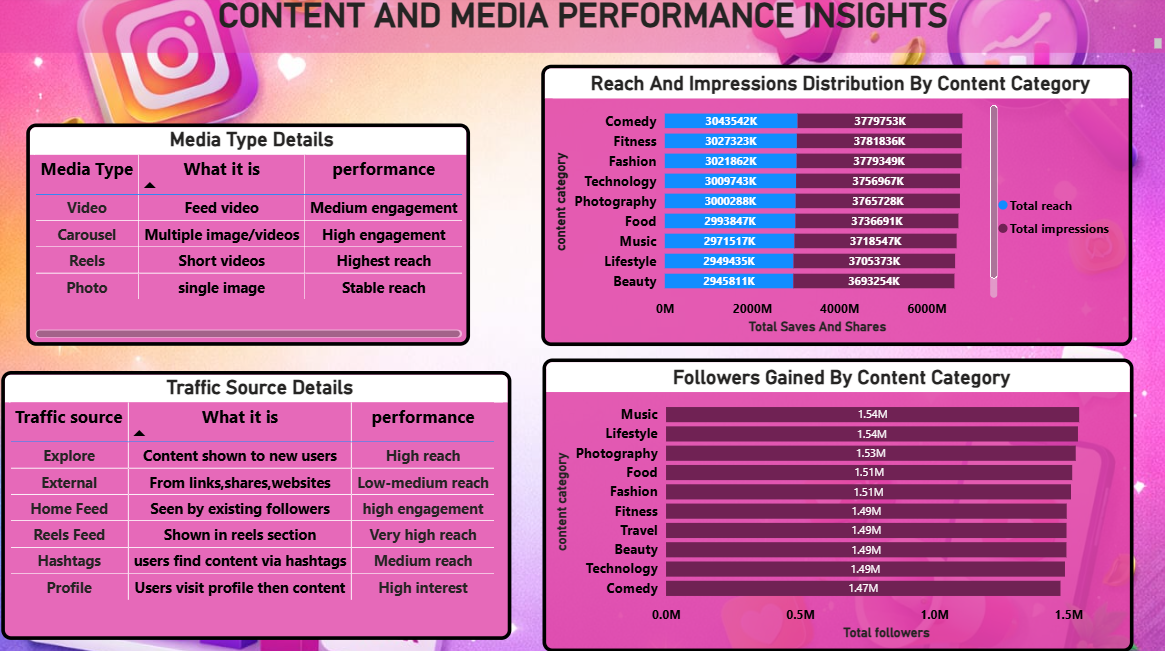

What the dashboard file says about the page in this screenshot:
{"tool":"powerbi","page":{"name":"Page 2","canvas":[1280,720],"ordinal":1},"visuals":[{"type":"textbox","title":"CONTENT AND MEDIA PERFORMANCE INSIGHTS","box":[0,0,1280,62.7],"z":0},{"type":"tableEx","title":"Media Type Details","fields":{"Values":["media1.Media Type","media1.What it is","media1.performance"]},"box":[28.8,140,487.1,244.3],"z":1000},{"type":"tableEx","title":"Traffic Source Details","fields":{"Values":["Traffic source.Traffic source","Traffic source.What it is","Traffic source.performance"]},"box":[1.2,411.4,559.8,295.6],"z":2000},{"type":"clusteredBarChart","title":"Followers Gained By Content Category","fields":{"Category":["Instagram_Analytics.content category"],"Y":["DAX.Total followers(m)"]},"box":[595.5,397.9,649.1,322.5],"z":3000},{"type":"barChart","title":"Reach And Impressions Distribution  By Content Category","fields":{"Category":["Instagram_Analytics.content category"],"Y":["DAX.Total reach(m)","DAX.Total impressions (m)"]},"box":[594.2,75.5,649.1,308.7],"z":4000}]}

Visuals, with their boxes in screenshot pixels (x1, y1, x2, y2), scaled from the page's 1280x720 canvas onto the 1165x651 screenshot:
"CONTENT AND MEDIA PERFORMANCE INSIGHTS" textbox: BBox(0, 0, 1164, 57)
"Media Type Details" tableEx: BBox(26, 127, 470, 347)
"Traffic Source Details" tableEx: BBox(1, 372, 511, 639)
"Followers Gained By Content Category" clusteredBarChart: BBox(542, 360, 1133, 650)
"Reach And Impressions Distribution  By Content Category" barChart: BBox(541, 68, 1132, 347)
